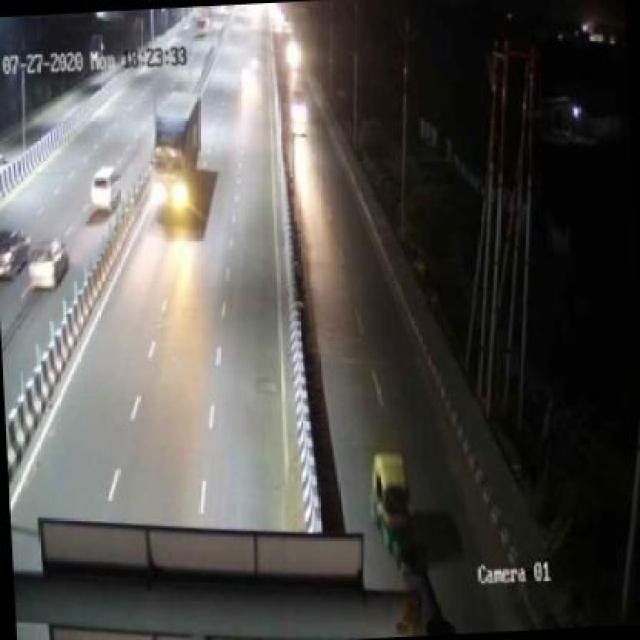car: (286, 86, 309, 123)
